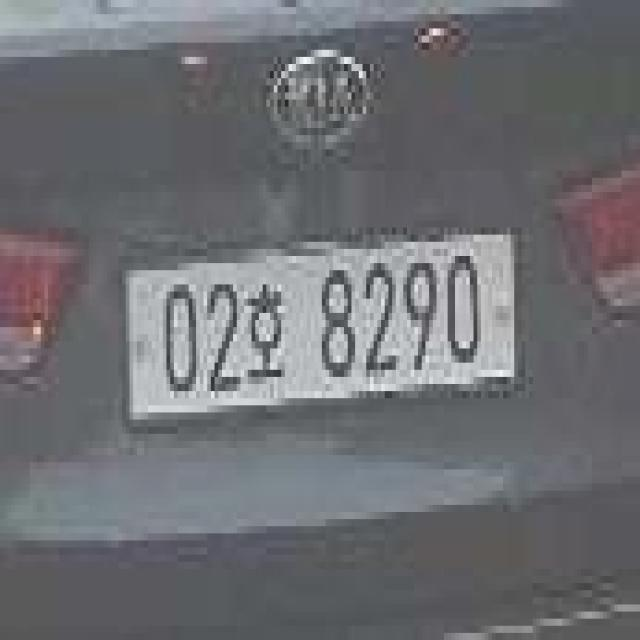illegal_plate: (118, 232, 528, 424)
